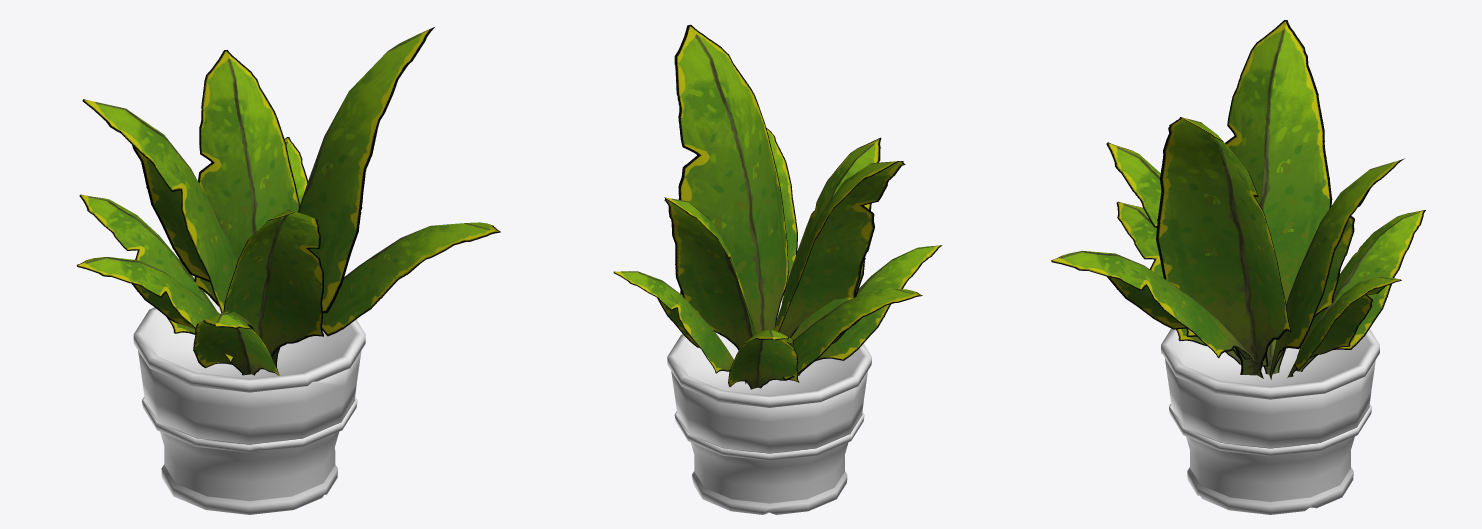
Rendered from PlantSmall_02.fbx.
3 views of the same model, side by side, from view 1: azimuth 30°, elevation 25°; view 2: azimuth 150°, elevation 25°; view 3: azimuth 270°, elevation 25° (orthographic). The views are drawn at different scales.
Visible parts, largest first — view 1: Plane.134, Cylinder.203; view 2: Plane.134, Cylinder.203; view 3: Plane.134, Cylinder.203.
Part boxes in pixels (<box>): Plane.134: <box>76,27,500,375</box>; Cylinder.203: <box>133,292,365,514</box>; Plane.134: <box>613,24,942,389</box>; Cylinder.203: <box>667,314,871,514</box>; Plane.134: <box>1051,20,1425,379</box>; Cylinder.203: <box>1161,328,1379,514</box>.
Bounding box in the file's own units: 571 × 586 × 572.
